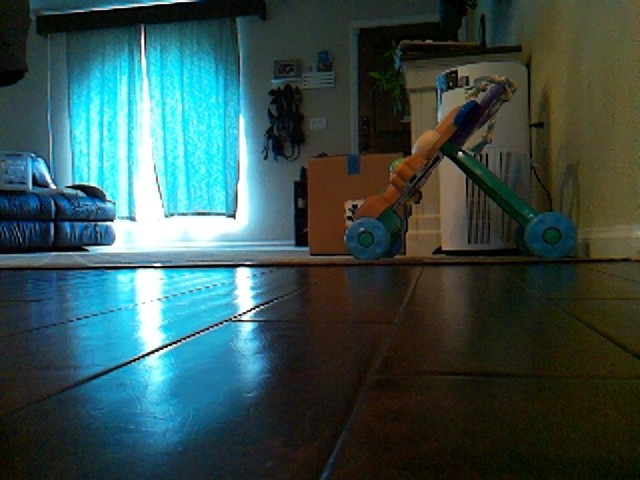Drivable Area: (4, 261, 640, 480), (24, 253, 306, 268)
Obstacle: (330, 82, 582, 259), (396, 43, 548, 253), (310, 155, 407, 253)
